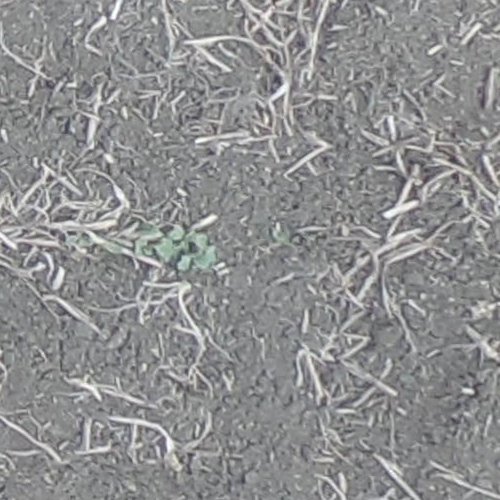clumped: (159, 224, 215, 270)
isolated: (131, 220, 158, 257), (66, 233, 91, 248), (271, 224, 289, 238)
